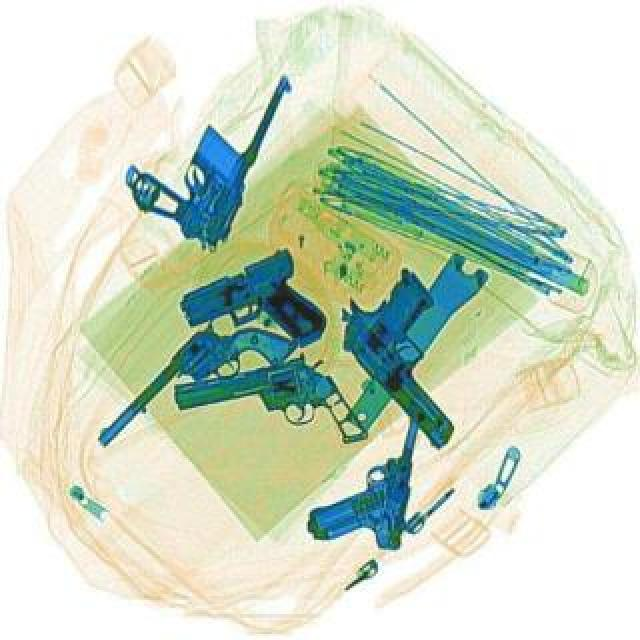gun: (90, 288, 300, 490), (106, 38, 298, 254), (318, 256, 522, 448), (168, 348, 368, 468), (168, 244, 332, 380), (302, 402, 418, 550)
